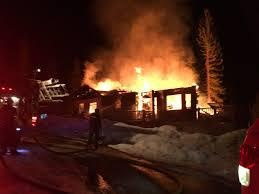fire: (91, 64, 205, 113)
